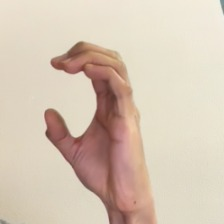C: (22, 30, 175, 215)
